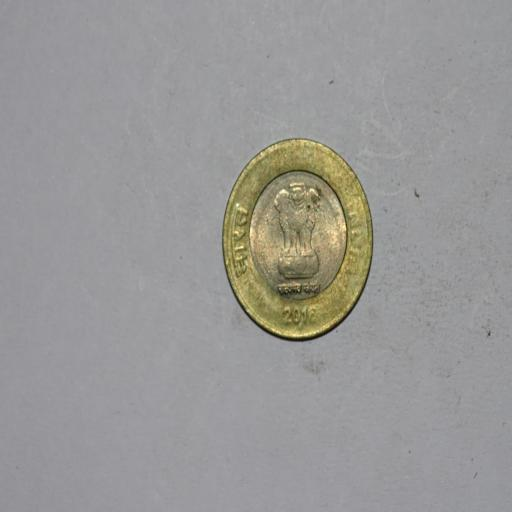rupee10: (222, 138, 372, 340)
